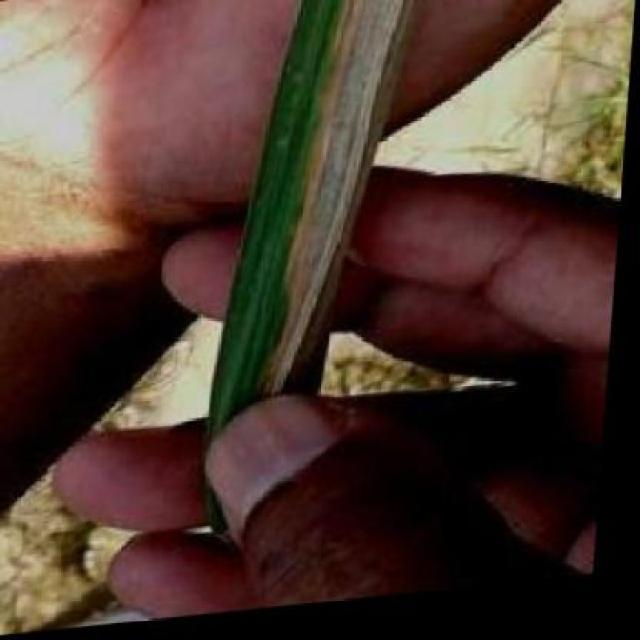Brown_Spot: (283, 0, 395, 494)
